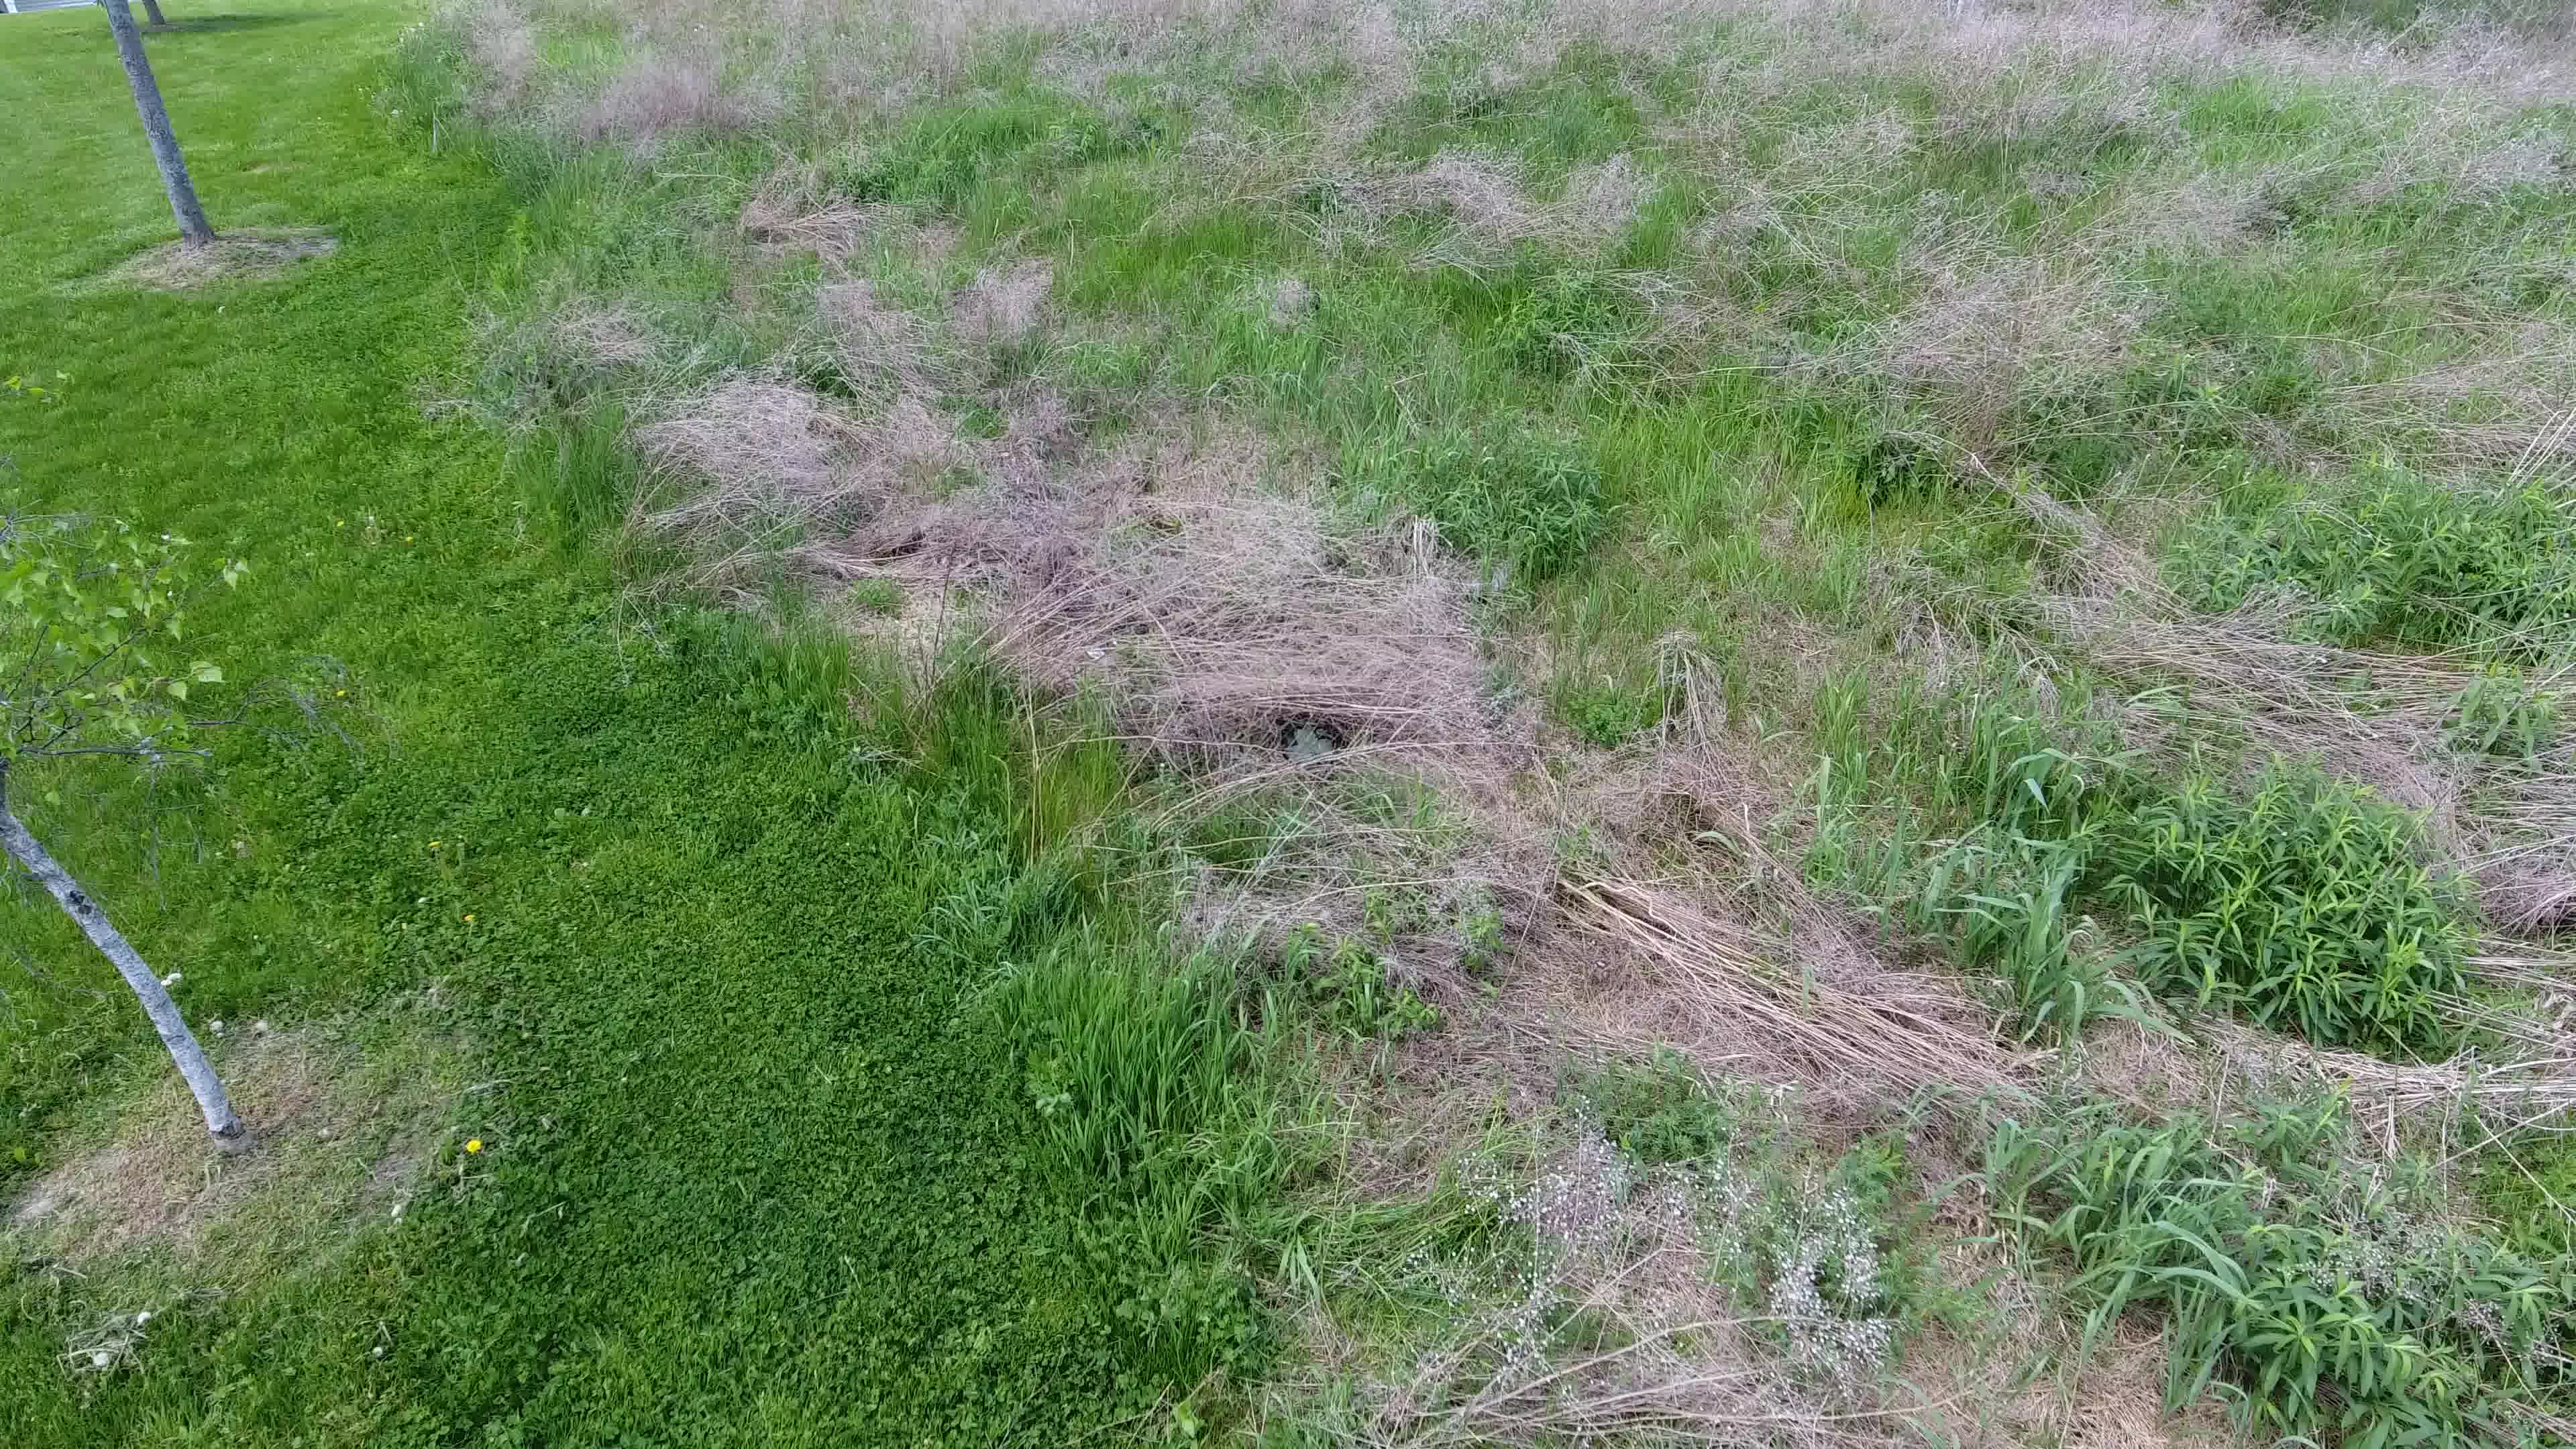transporter9: (1276, 711, 1339, 764)
